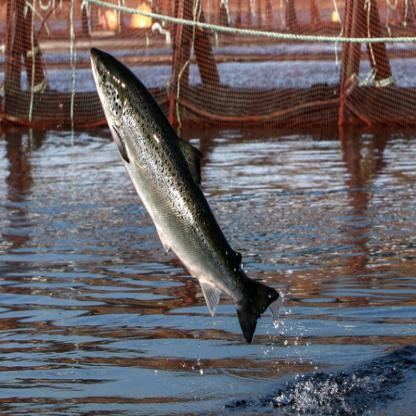fish: (89, 46, 279, 348)
